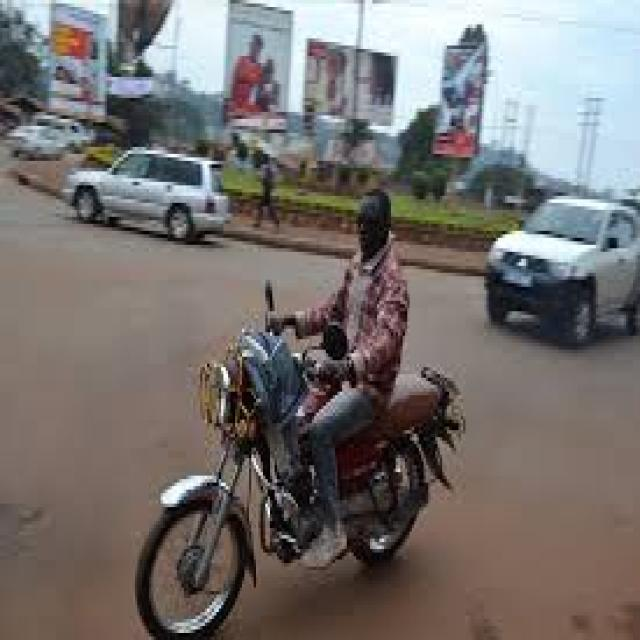bodaboda: (113, 211, 467, 640)
